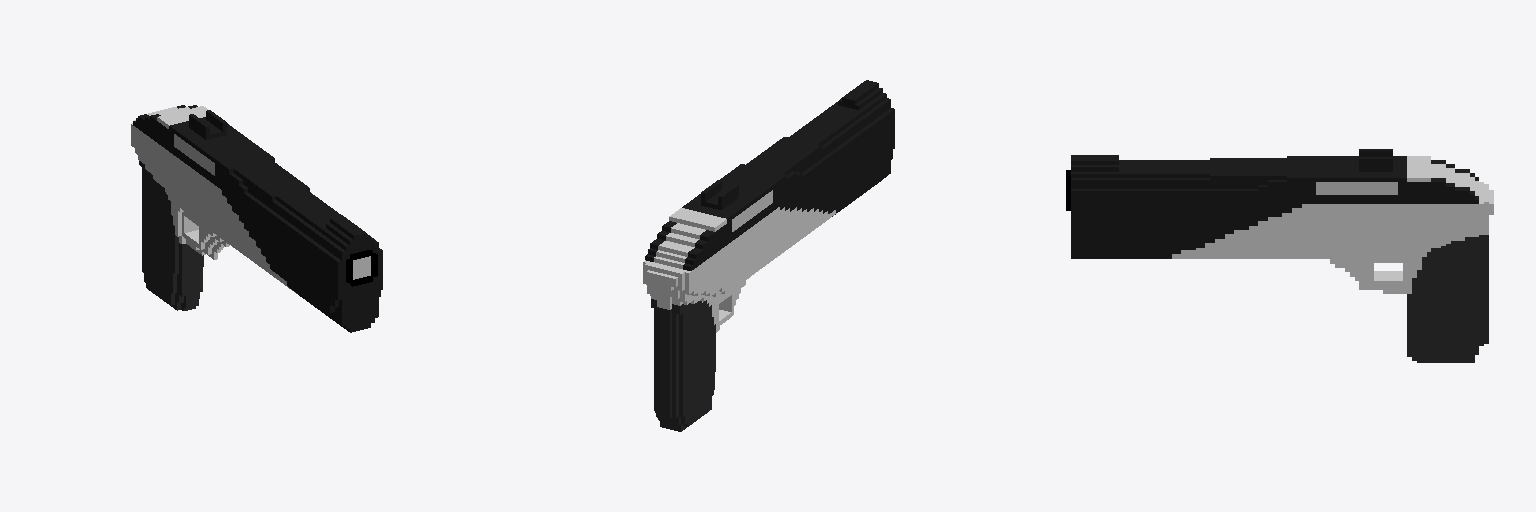
3 views of the same model, side by side, from view 1: azimuth 30°, elevation 25°; view 2: azimuth 150°, elevation 25°; view 3: azimuth 270°, elevation 25° (orthographic).
Parts seen in each view (by area): view 1: object 1; view 2: object 1; view 3: object 1.
Part boxes in pixels (bbox=[...]): object 1: bbox=[131, 105, 382, 332]; object 1: bbox=[643, 80, 894, 431]; object 1: bbox=[1066, 149, 1493, 362].
Size of the model in its own units: 1.1 by 4.7 by 8.9.
Materials: 1 (1 with a texture image).